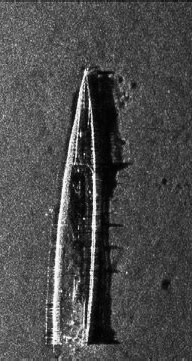ship: (49, 66, 100, 346)
